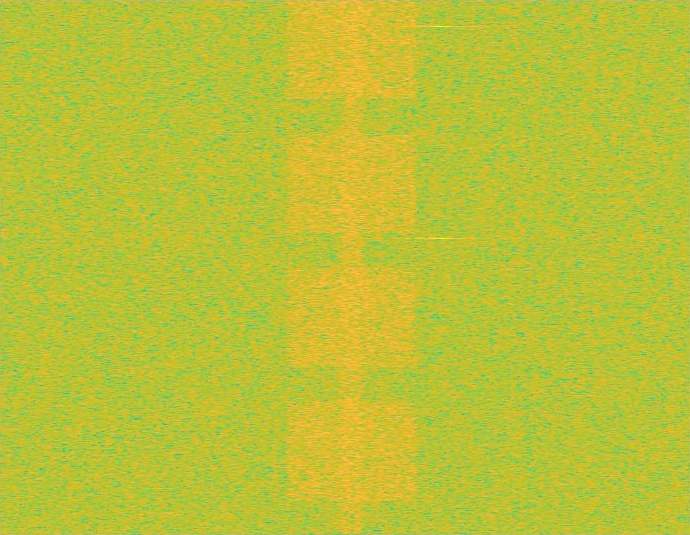5G: (283, 0, 421, 534)
DSSS: (336, 0, 367, 534)
Radar: (434, 0, 448, 534)
